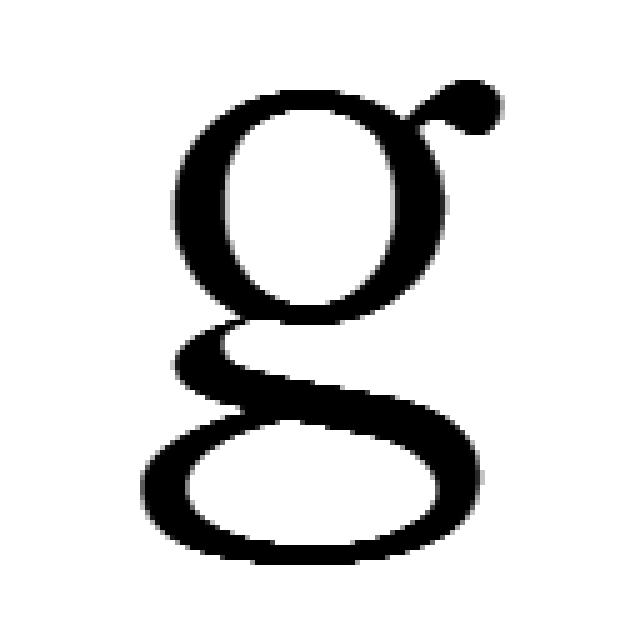G: (139, 81, 509, 564)
